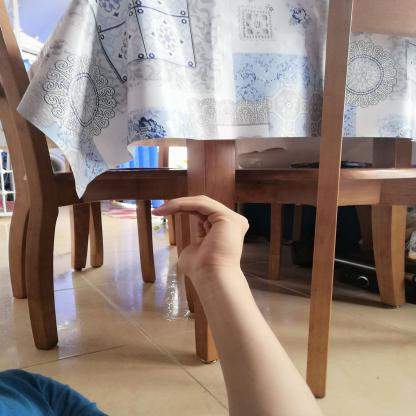HAA: (139, 184, 262, 288)
